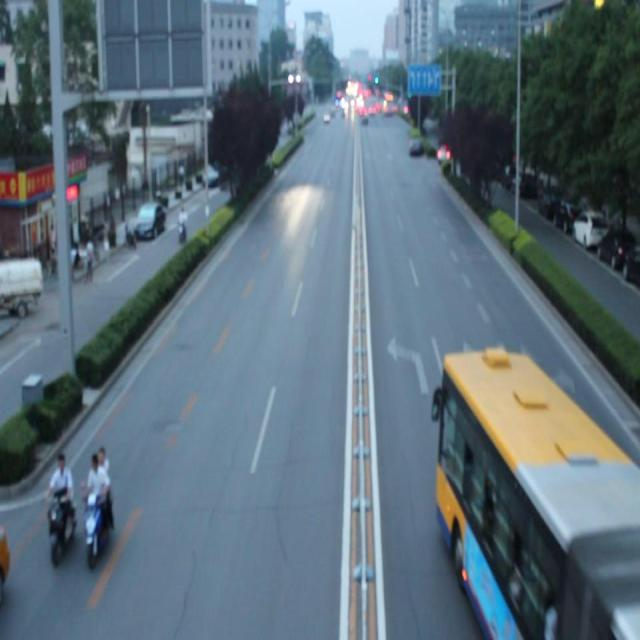van: (437, 347, 640, 640)
